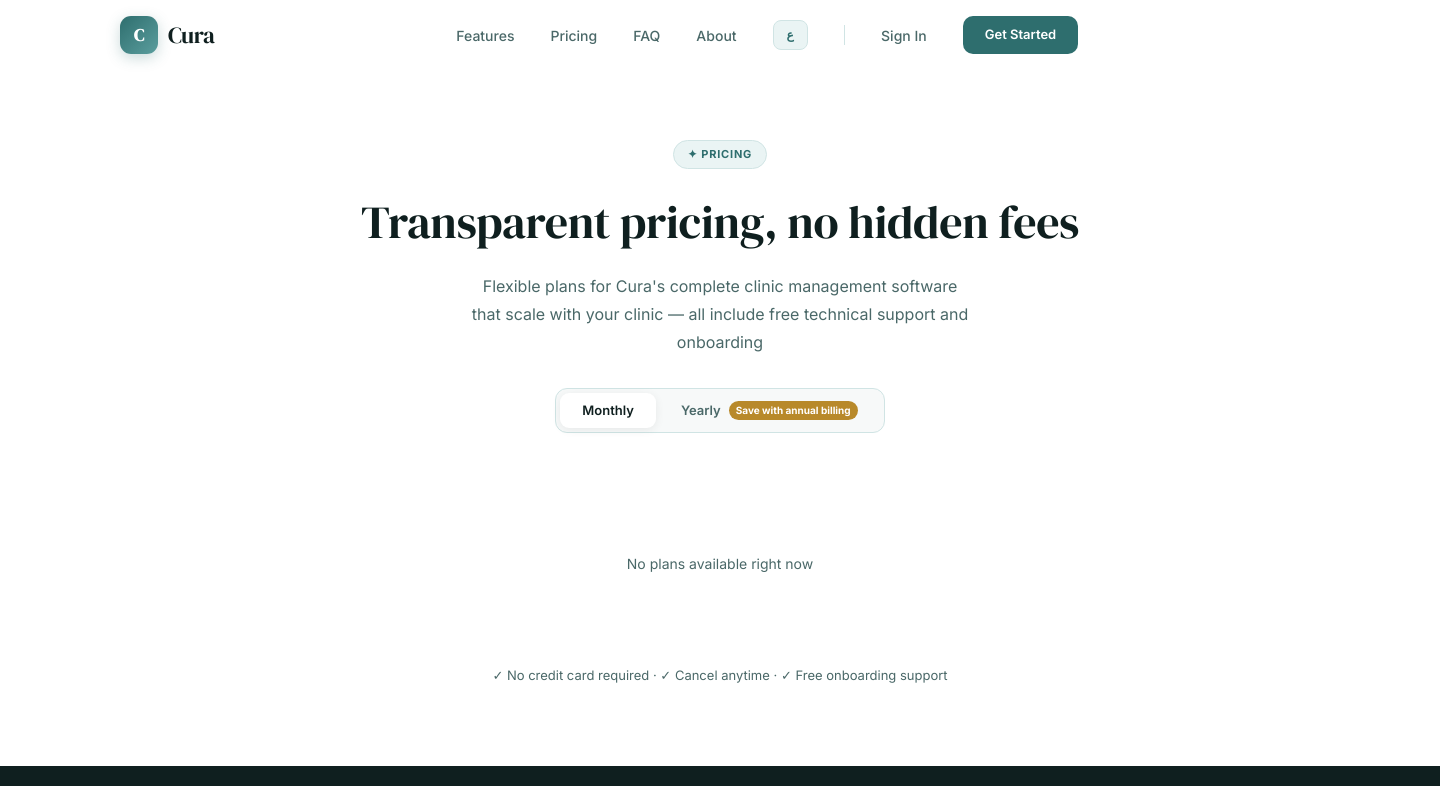
Test: PricingPage › switches to Arabic when the language toggle is clicked
The width and height of the screenshot is (1440, 786).
Check: the text "No plans available right now" is shown, box [627,555,813,572]
Click the button "ع".
click(790, 35)  # box [773,20,808,50]
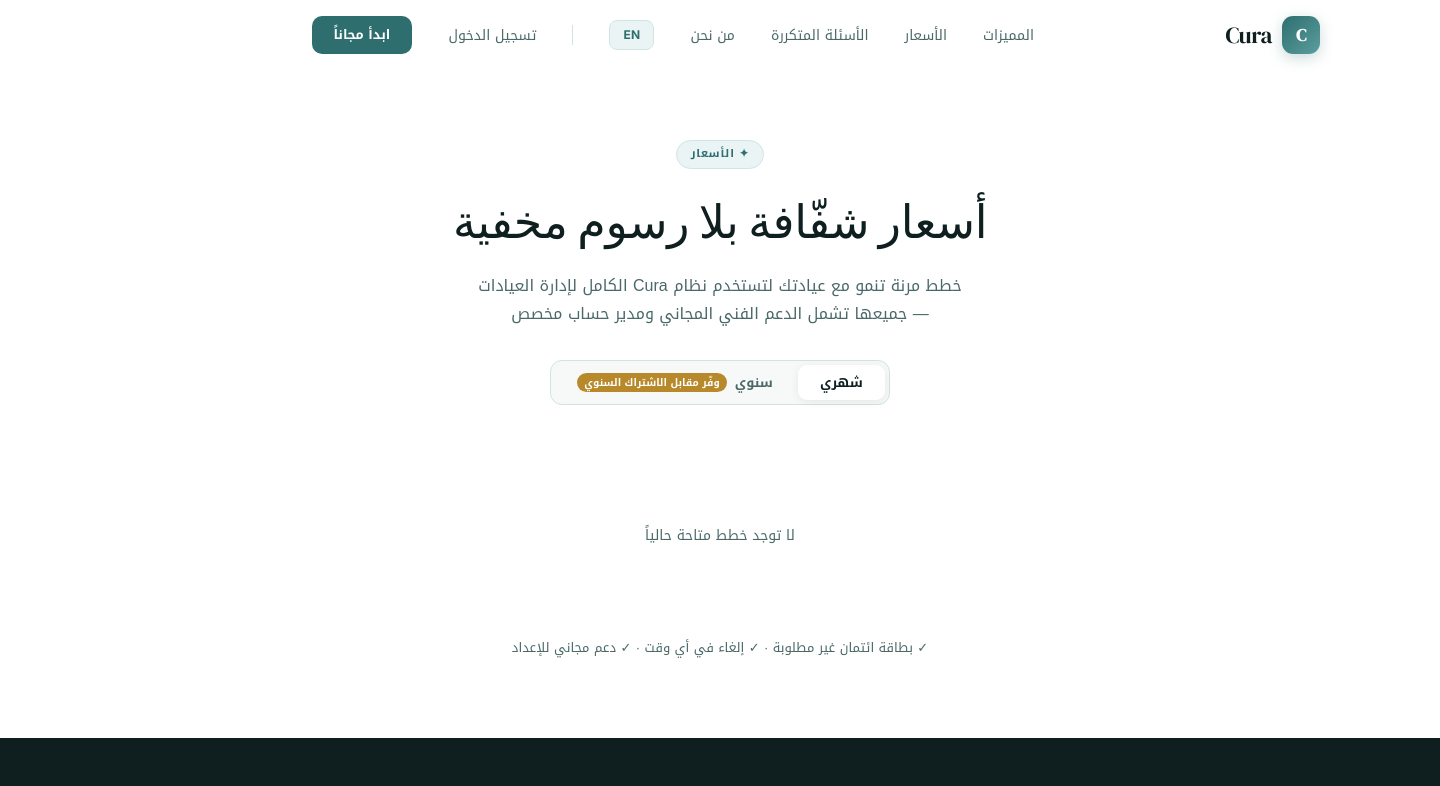
Check: the text "تسجيل الدخول" is shown, box [448,24,536,46]
